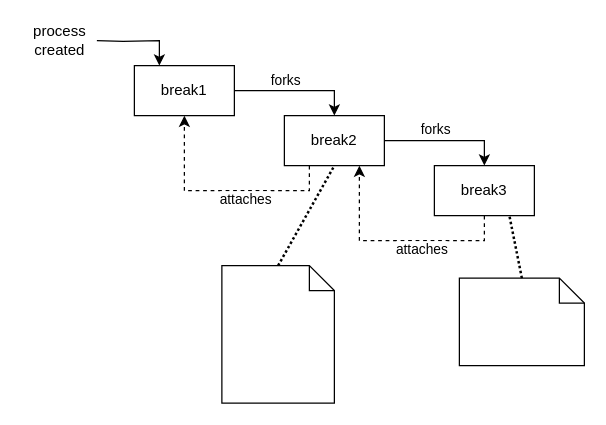
Image size: 606x425. Some labels were removed from this diagram. Here are the shapes that lost their labels. From the top down, the centre of each, then its label:
At pixel 277 333: "SIGSTOP SIGTRAP SIGILL SIGSEGV SIGINT SIGTERM SIGQUIT".
At pixel 521 321: "SIGSEGV SIGALRM SIGSTOP SIGINT".
